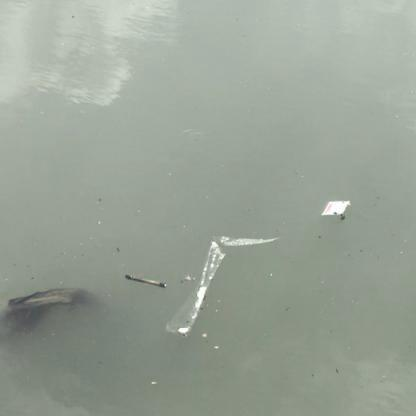Trash: (170, 221, 276, 346), (322, 193, 348, 226)
